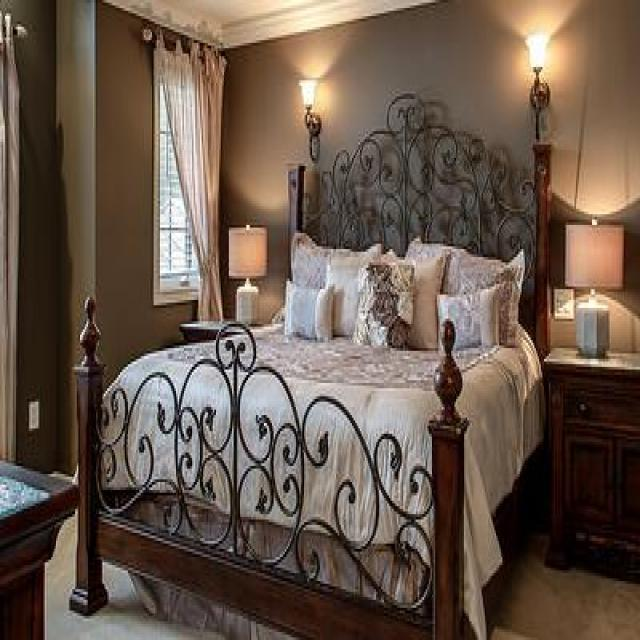bed: (69, 88, 552, 638)
